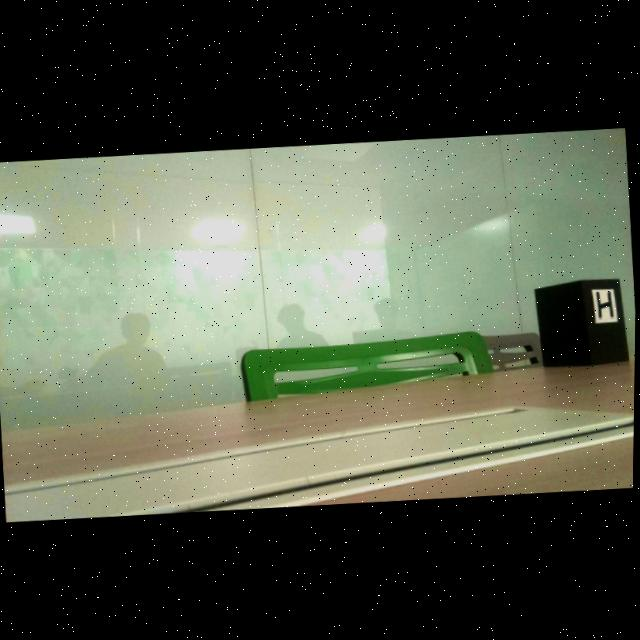H: (597, 289, 614, 316)
